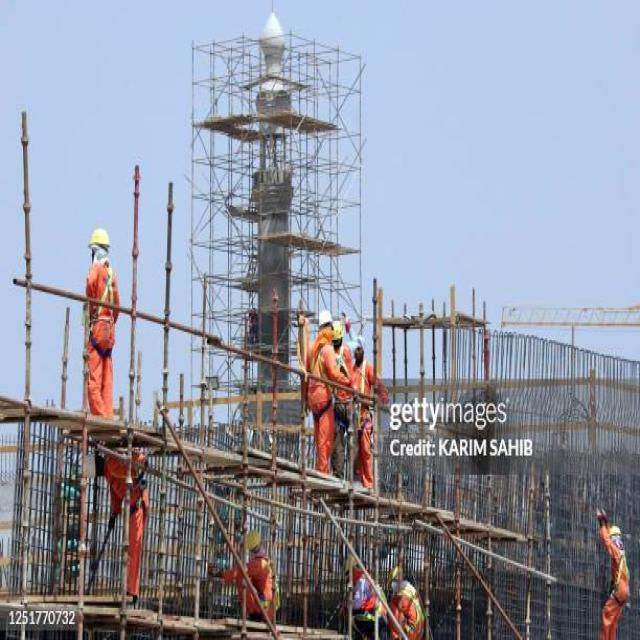Framing: (5, 206, 521, 640), (177, 34, 266, 376), (288, 25, 381, 333), (387, 283, 512, 394)
